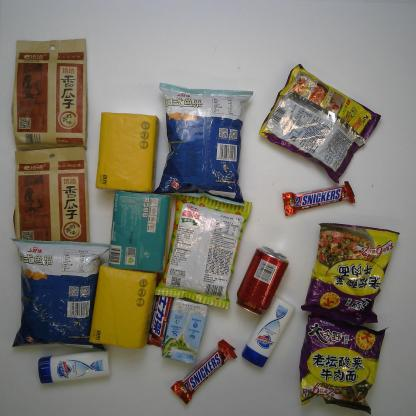Chocolate: (168, 336, 239, 409), (280, 179, 359, 217), (145, 293, 176, 350)
Dried Food: (8, 36, 92, 153), (11, 147, 92, 247)
Drink: (232, 245, 291, 318)
Instant Noodles: (257, 61, 383, 186), (299, 220, 402, 328), (296, 312, 391, 416)
Milk: (158, 297, 209, 368)
Personal Hygiene: (239, 294, 295, 372), (35, 348, 113, 388)
Puffed Food: (151, 82, 256, 207), (7, 236, 112, 354), (153, 193, 253, 311)
Tissue: (84, 260, 158, 352), (93, 108, 162, 196), (105, 190, 173, 274)
